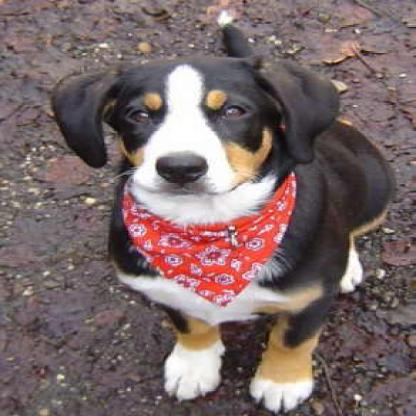EntleBucher: (48, 24, 399, 414)
